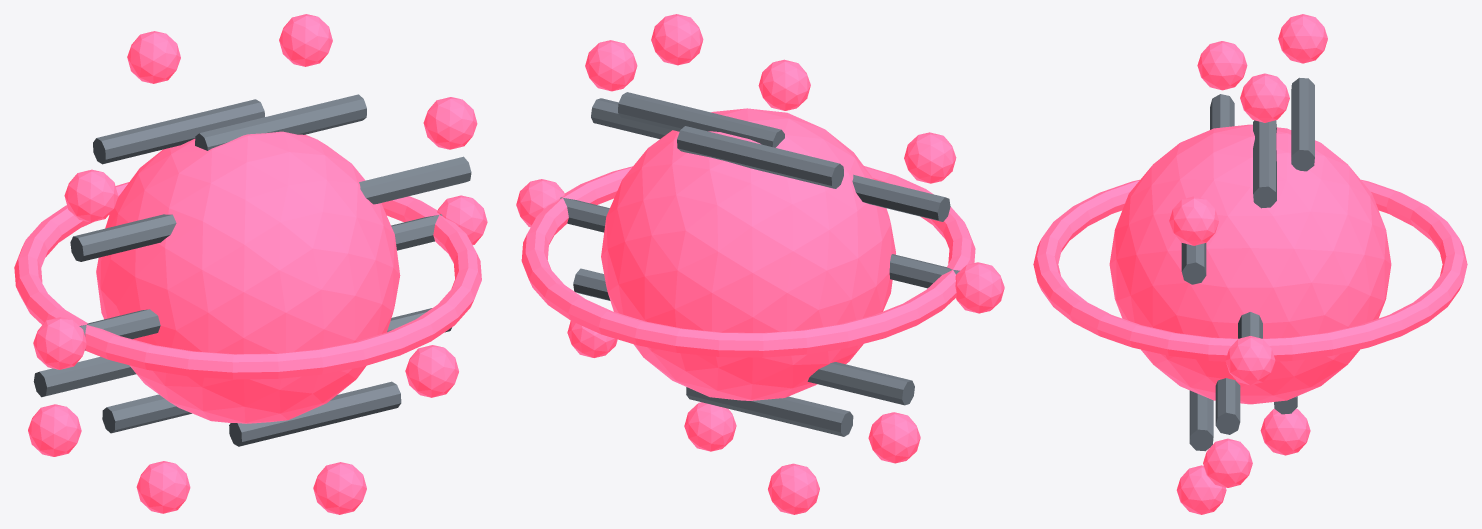
The model's file is virus_03.glb.
The picture shows the model from 3 angles, left to right: view 1: azimuth 30°, elevation 25°; view 2: azimuth 150°, elevation 25°; view 3: azimuth 270°, elevation 25°; orthographic projection. The views are drawn at different scales.
Visible parts, largest first — view 1: virus_core, world, corrupt_ring, tendril3, tendril8, tendril2, tendril1, tendril4, tendril6, tendril7, tendril5, tendril0; view 2: virus_core, world, corrupt_ring, tendril3, tendril2, tendril7, tendril6, tendril4, tendril5, tendril1, tendril0, tendril9; view 3: virus_core, corrupt_ring, world, tendril3, tendril2, tendril9, tendril8, tendril1, tendril4, tendril0.
Boxes of the visible parts, x1=… form: virus_core: x1=96, y1=131, x2=400, y2=423; world: x1=28, y1=14, x2=487, y2=514; corrupt_ring: x1=14, y1=182, x2=481, y2=379; tendril3: x1=93, y1=99, x2=264, y2=164; tendril8: x1=229, y1=381, x2=401, y2=446; tendril2: x1=195, y1=94, x2=366, y2=150; tendril1: x1=359, y1=156, x2=471, y2=204; tendril4: x1=70, y1=214, x2=176, y2=261; tendril6: x1=33, y1=356, x2=136, y2=397; tendril7: x1=102, y1=394, x2=191, y2=433; tendril5: x1=79, y1=309, x2=160, y2=350; tendril0: x1=391, y1=214, x2=442, y2=250; virus_core: x1=601, y1=108, x2=895, y2=400; world: x1=516, y1=14, x2=1004, y2=514; corrupt_ring: x1=521, y1=166, x2=975, y2=357; tendril3: x1=677, y1=126, x2=843, y2=188; tendril2: x1=618, y1=92, x2=784, y2=147; tendril7: x1=686, y1=387, x2=853, y2=436; tendril6: x1=807, y1=362, x2=914, y2=405; tendril4: x1=852, y1=174, x2=950, y2=221; tendril5: x1=889, y1=254, x2=959, y2=288; tendril1: x1=591, y1=98, x2=672, y2=138; tendril0: x1=560, y1=197, x2=609, y2=232; tendril9: x1=573, y1=268, x2=610, y2=300; virus_core: x1=1109, y1=124, x2=1391, y2=404; corrupt_ring: x1=1033, y1=179, x2=1467, y2=361; world: x1=1169, y1=14, x2=1327, y2=514; tendril3: x1=1291, y1=77, x2=1314, y2=171; tendril2: x1=1253, y1=120, x2=1276, y2=208; tendril9: x1=1215, y1=378, x2=1240, y2=434; tendril8: x1=1189, y1=390, x2=1213, y2=451; tendril1: x1=1181, y1=243, x2=1206, y2=284; tendril4: x1=1210, y1=94, x2=1234, y2=129; tendril0: x1=1238, y1=312, x2=1262, y2=338.
Bounding box in the file's own units: 2.22 × 2.12 × 1.91.
